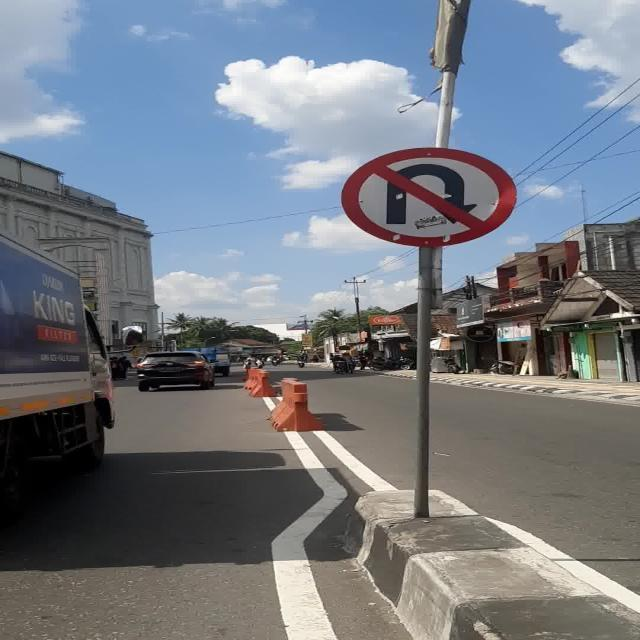Dilarang Putar Balik: (340, 148, 518, 246)
